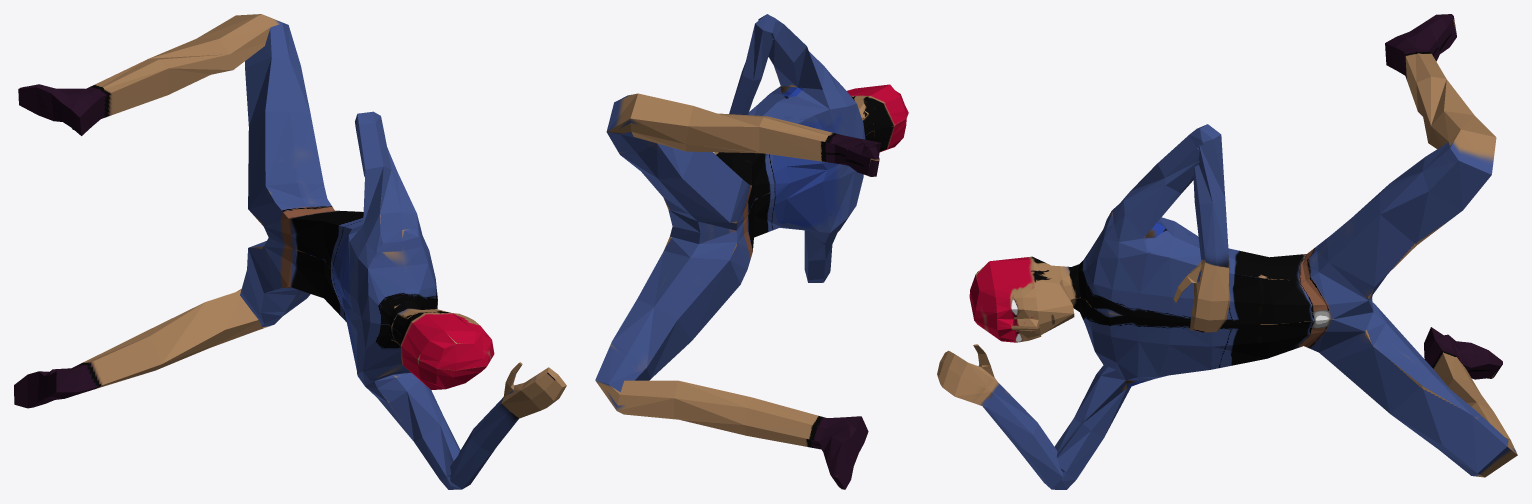
Rendered from mirrorman_000026.obj.
3 renders of one model, left to right at view 1: azimuth 30°, elevation 25°; view 2: azimuth 150°, elevation 25°; view 3: azimuth 270°, elevation 25°, orthographic. The views are drawn at different scales.
Parts seen in each view (by area): view 1: mirrorman_Cube.001_Material.001; view 2: mirrorman_Cube.001_Material.001; view 3: mirrorman_Cube.001_Material.001.
Boxes of the visible parts, x1,y1,x2,y2 form: mirrorman_Cube.001_Material.001: (14,14,566,489); mirrorman_Cube.001_Material.001: (595,14,908,489); mirrorman_Cube.001_Material.001: (937,14,1517,489).
Bounding box in the file's own units: 0.8199 × 0.8843 × 1.27.
Materials: 1 (1 with a texture image).
